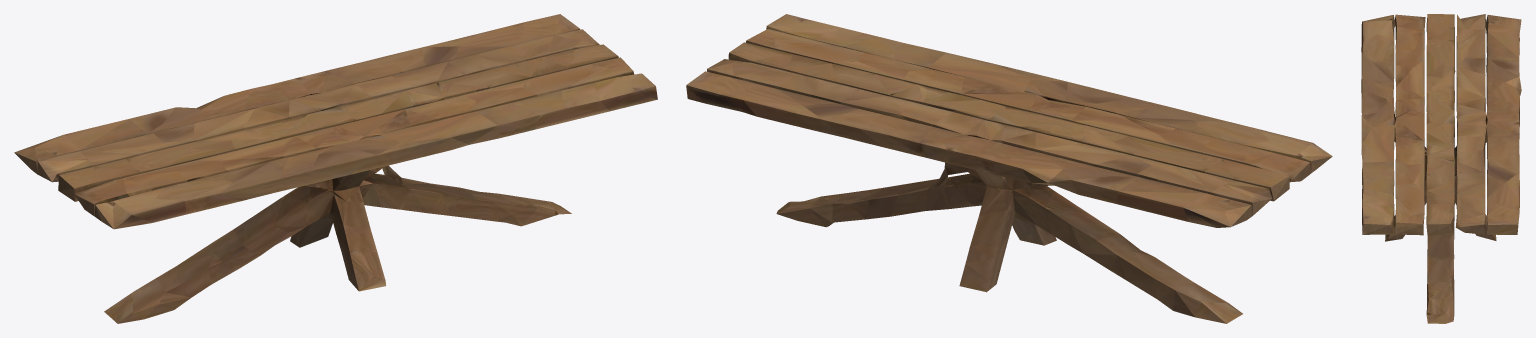
File: long_table.glb
The picture shows the model from 3 angles, left to right: view 1: azimuth 30°, elevation 25°; view 2: azimuth 150°, elevation 25°; view 3: azimuth 270°, elevation 25°; orthographic projection. The views are drawn at different scales.
Visible parts, largest first — view 1: m; view 2: m; view 3: m.
Boxes of the visible parts, left/top/right/bottom form: m: left=14, top=14, right=657, bottom=323; m: left=686, top=14, right=1332, bottom=323; m: left=1361, top=14, right=1521, bottom=323.
Size of the model in its own units: 2.93 by 0.76 by 0.9365.
Materials: 1 (1 with a texture image).
